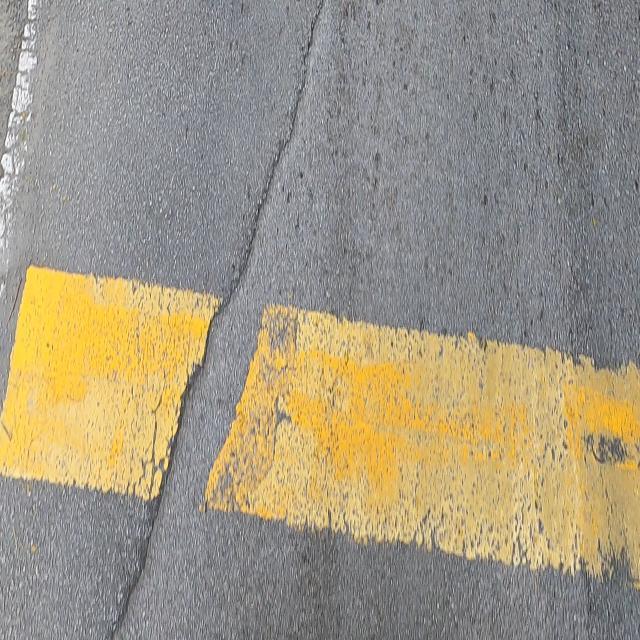Retak-Memanjang: (105, 0, 323, 640)
